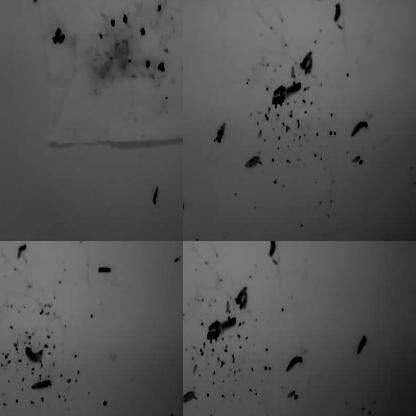PtecticusTenebrifer: (26, 345, 44, 365), (282, 81, 302, 97), (217, 316, 237, 332), (286, 355, 304, 372), (30, 380, 53, 392), (356, 335, 368, 356), (352, 121, 368, 136), (300, 50, 312, 69), (236, 285, 247, 304), (245, 155, 261, 168), (96, 264, 112, 277), (216, 124, 226, 144), (304, 55, 314, 74), (17, 243, 27, 262), (239, 290, 249, 309), (151, 186, 159, 206), (183, 390, 196, 402), (14, 241, 30, 249), (334, 1, 340, 21), (183, 358, 188, 378), (0, 372, 5, 390), (269, 241, 275, 256), (183, 201, 189, 214), (228, 0, 243, 5), (0, 241, 10, 248), (368, 241, 382, 246), (339, 0, 355, 4), (274, 241, 290, 245), (30, 0, 37, 9), (313, 0, 324, 5), (248, 241, 259, 246), (0, 241, 7, 247), (183, 241, 190, 246), (391, 0, 401, 3), (326, 241, 336, 244)
